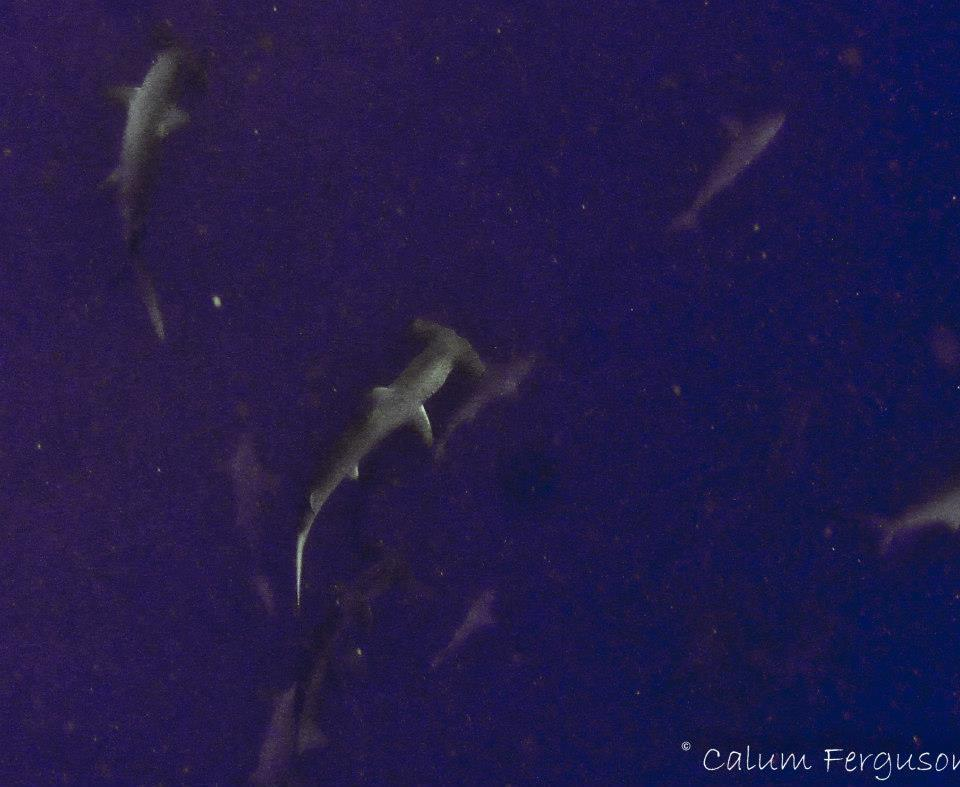Fish: (281, 300, 494, 615), (85, 25, 227, 365)
